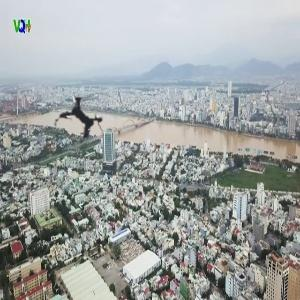drone: (38, 75, 130, 167)
